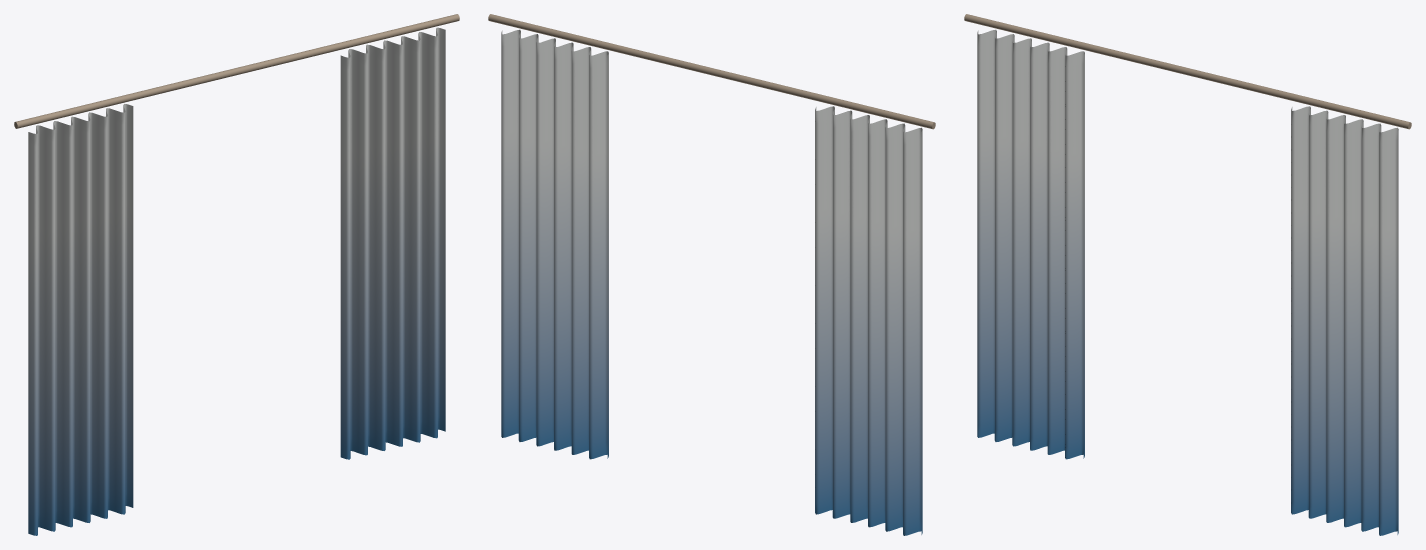
Rendered from curtains.glb.
The picture shows the model from 3 angles, left to right: view 1: azimuth 30°, elevation 25°; view 2: azimuth 150°, elevation 25°; view 3: azimuth 330°, elevation 25°; orthographic projection.
Visible parts, largest first — view 1: blue-white-gradient-curtains; view 2: blue-white-gradient-curtains; view 3: blue-white-gradient-curtains.
Part boxes in pixels (x1,y1,x2,y2): blue-white-gradient-curtains: [14, 14, 459, 535]; blue-white-gradient-curtains: [488, 14, 935, 535]; blue-white-gradient-curtains: [964, 14, 1411, 535].
Bounding box in the file's own units: 1.98 × 1.77 × 0.072.
